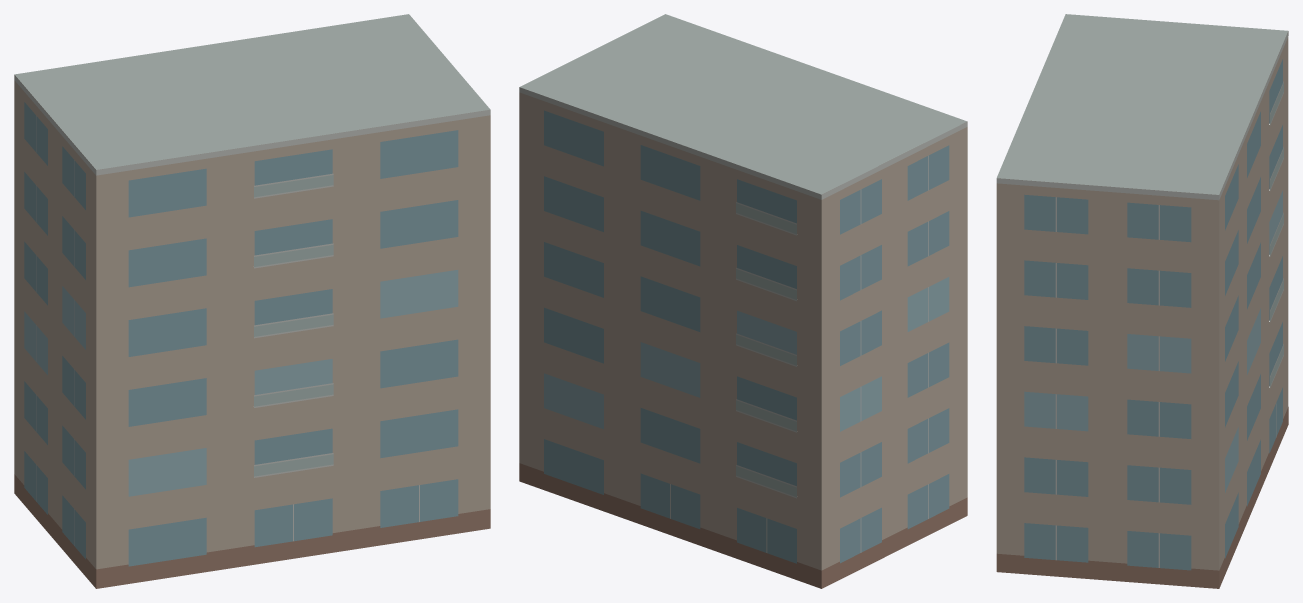
File: survey-upis-32999972.glb
3 renders of one model, left to right at view 1: azimuth 30°, elevation 25°; view 2: azimuth 150°, elevation 25°; view 3: azimuth 270°, elevation 25°, orthographic. The views are drawn at different scales.
Visible parts, largest first — view 1: survey-upis-32999972.tmp; view 2: survey-upis-32999972.tmp; view 3: survey-upis-32999972.tmp.
Part boxes in pixels (x1,y1,x2,y2): survey-upis-32999972.tmp: [14, 14, 490, 588]; survey-upis-32999972.tmp: [519, 14, 967, 588]; survey-upis-32999972.tmp: [996, 14, 1288, 588].
Bounding box in the file's own units: 18.04 × 18.3 × 12.3.
